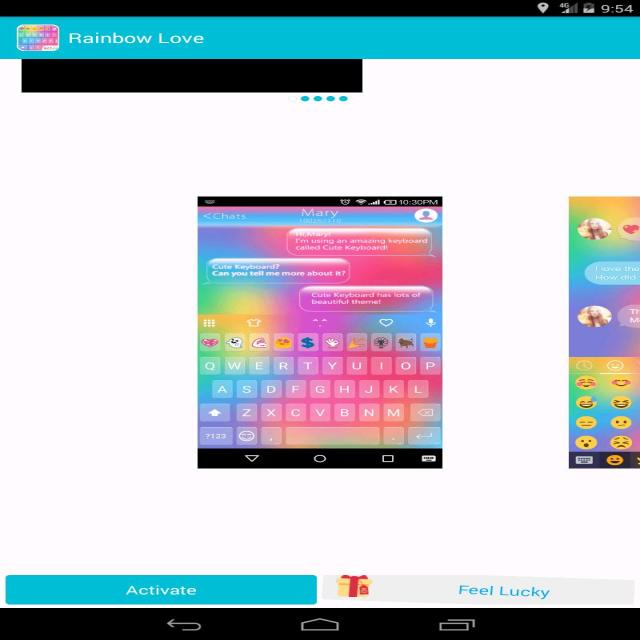button: (6, 574, 318, 606), (329, 575, 636, 607)
heading: (67, 27, 209, 50)
image: (192, 193, 444, 469), (565, 196, 640, 471), (16, 24, 59, 53)
